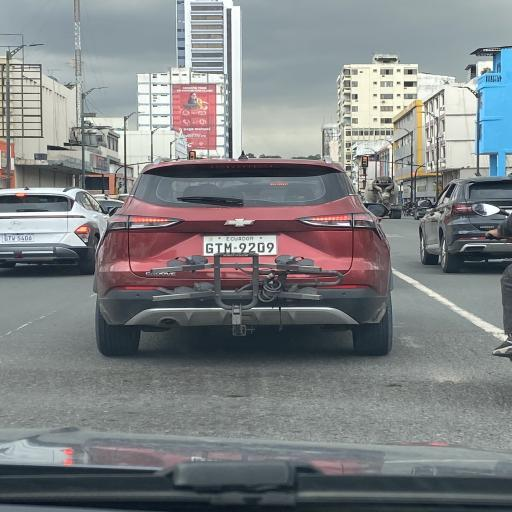license_plate: (238, 243, 248, 254), (205, 242, 214, 254), (257, 242, 266, 254), (224, 243, 233, 254), (215, 242, 223, 254), (266, 242, 274, 254), (248, 243, 256, 254)
